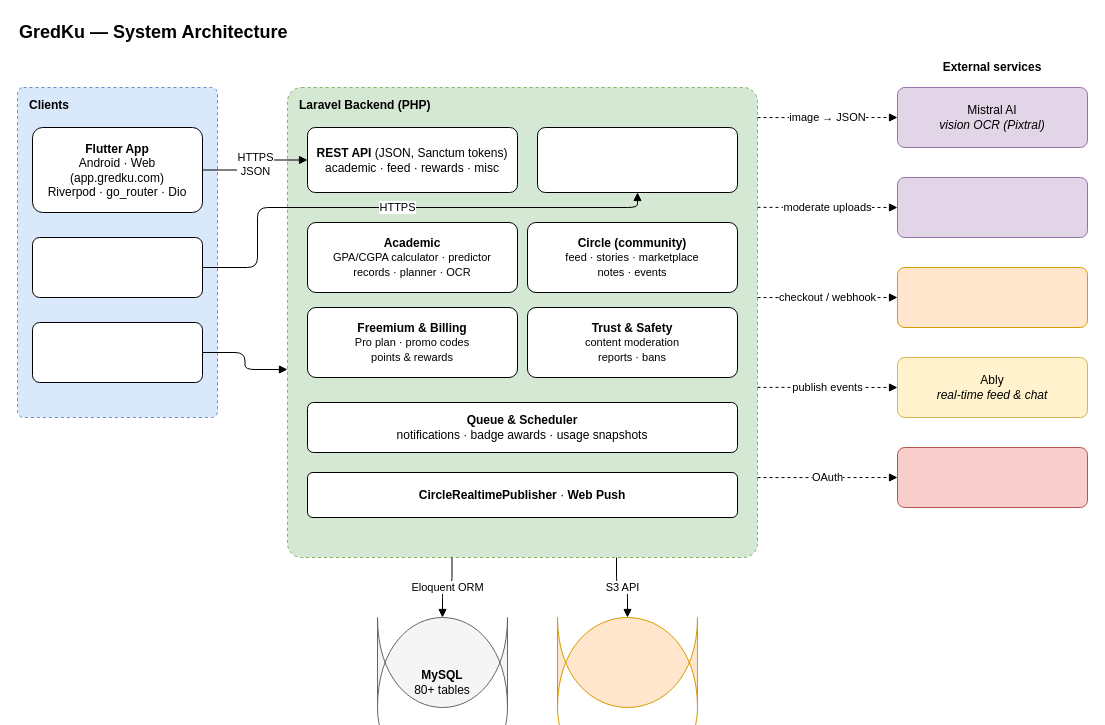
Some shapes in this 1105 by 725 pixel diagram are drawn without their labels. The shapes that lost their labels are listed below. From the top down, each one's centre as x and y in pixels, then its label:
the point at 637,159: Web routes 200+ Blade pages
the point at 992,207: Sightengine · Hugging Face image & text moderation
the point at 117,267: Web (gredku.com) Laravel Blade + Tailwind
the point at 992,297: Billplz · Stripe (Cashier) Pro subscription
the point at 117,352: Admin Panel Filament 3
the point at 992,477: Google Sign-In
the point at 627,662: Cloudflare R2 images · notes PDF
